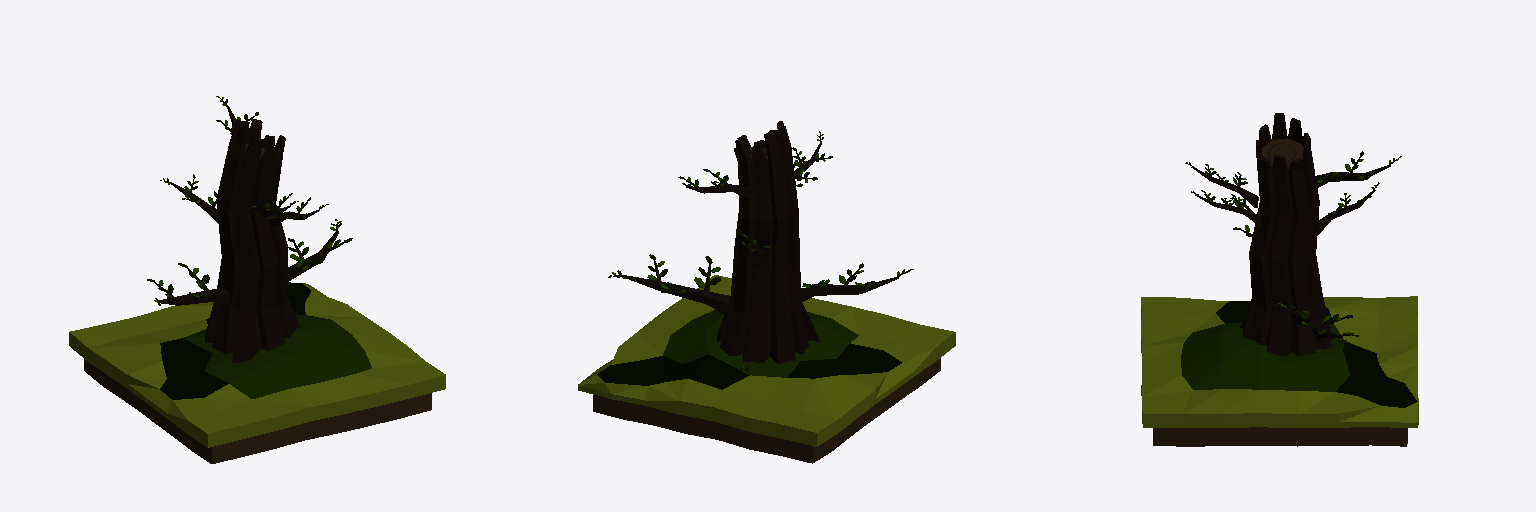
The model's file is TREE_TRUNK_EXPORT.obj.
3 views of the same model, side by side, from view 1: azimuth 30°, elevation 25°; view 2: azimuth 150°, elevation 25°; view 3: azimuth 270°, elevation 25° (orthographic).
Visible parts, largest first — view 1: Cylinder, Cube.001_Cube.002, Cube_Cube.001; view 2: Cylinder, Cube_Cube.001, Cube.001_Cube.002; view 3: Cylinder, Cube_Cube.001, Cube.001_Cube.002.
Boxes of the visible parts, x1=… form: Cylinder: x1=69, y1=119, x2=445, y2=463; Cube.001_Cube.002: x1=147, y1=96, x2=352, y2=305; Cube_Cube.001: x1=159, y1=106, x2=338, y2=305; Cylinder: x1=578, y1=121, x2=955, y2=463; Cube_Cube.001: x1=625, y1=142, x2=898, y2=314; Cube.001_Cube.002: x1=608, y1=131, x2=913, y2=371; Cylinder: x1=1141, y1=113, x2=1418, y2=446; Cube_Cube.001: x1=1191, y1=165, x2=1390, y2=337; Cube.001_Cube.002: x1=1185, y1=151, x2=1401, y2=341.
Bounding box in the file's own units: 4.08 × 4.37 × 4.03.